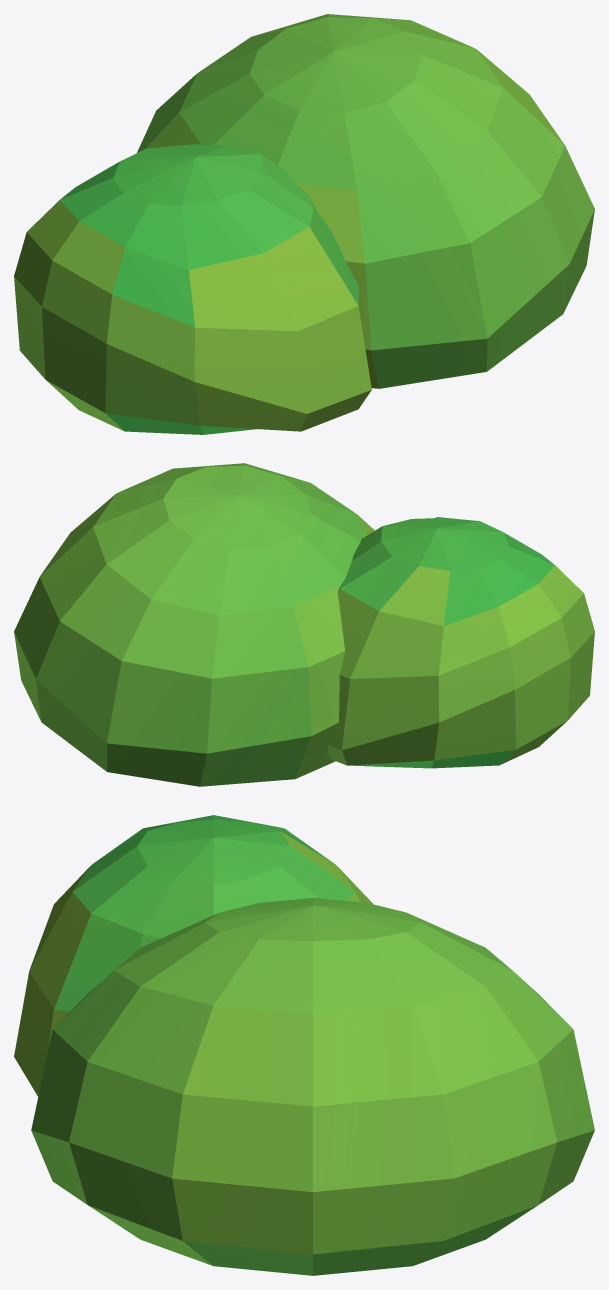
The model's file is rumput.fbx.
The picture shows the model from 3 angles, top to bottom: view 1: azimuth 30°, elevation 25°; view 2: azimuth 150°, elevation 25°; view 3: azimuth 270°, elevation 25°; orthographic projection. The views are drawn at different scales.
Parts seen in each view (by area): view 1: Sphere.001; view 2: Sphere.001; view 3: Sphere.001.
Part boxes in pixels (box(x1,y1,x2,y2)): Sphere.001: box(14, 14, 594, 434); Sphere.001: box(14, 463, 594, 786); Sphere.001: box(14, 815, 594, 1275).
Size of the model in its own units: 134 by 64.55 by 112.
Materials: 1 (1 with a texture image).
